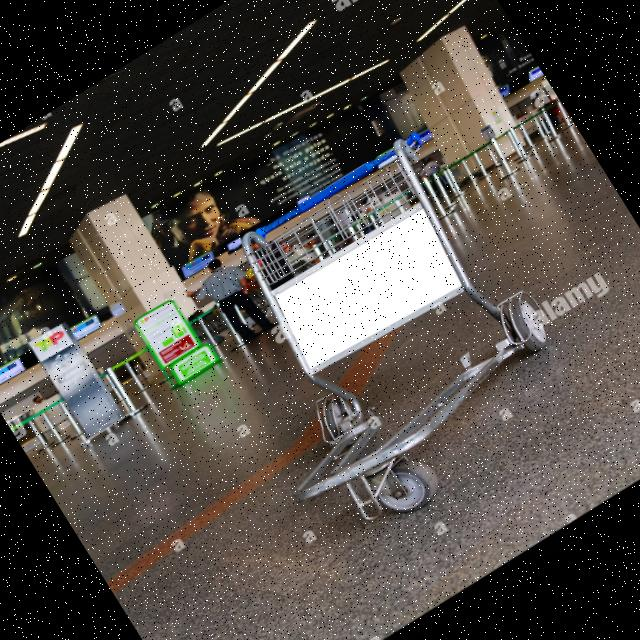Person: (178, 242, 284, 360)
